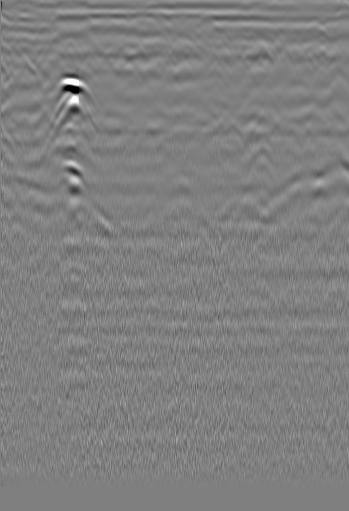가스: (50, 161, 87, 205)
상수: (312, 42, 332, 62)
오수: (18, 29, 38, 49)
우수: (169, 26, 189, 46)
